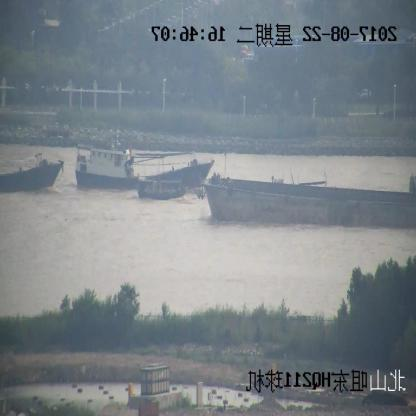Fishing Boat: (74, 147, 214, 190), (1, 152, 63, 194), (139, 175, 185, 198)
